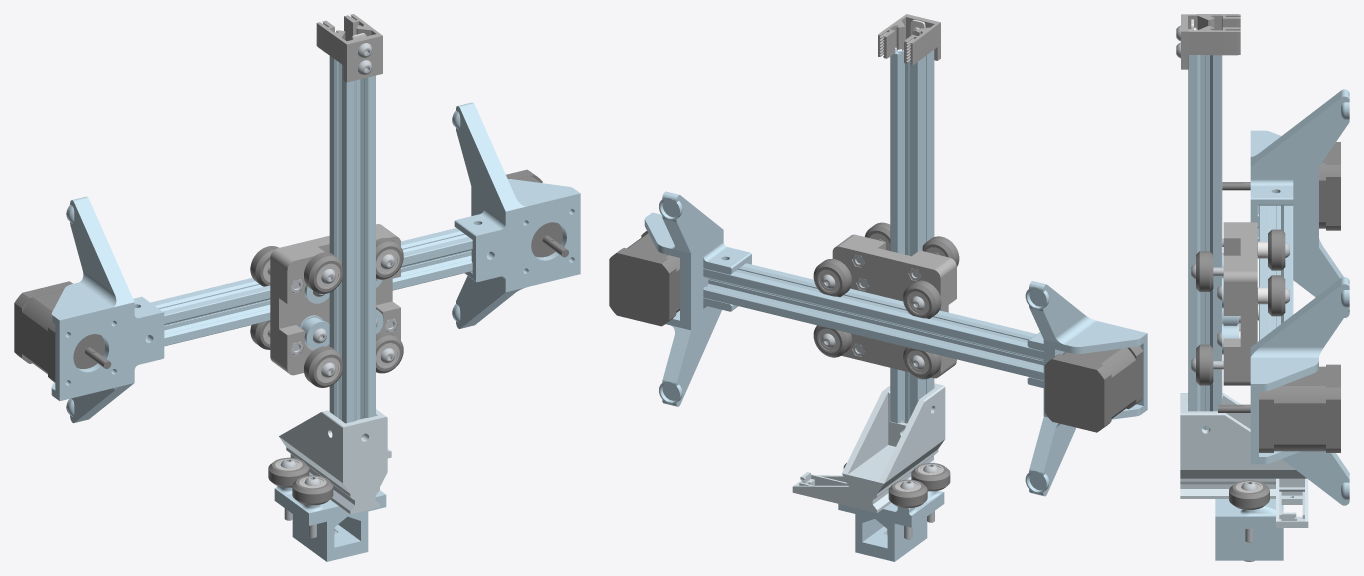
File: assembly.gltf
3 renders of one model, left to right at view 1: azimuth 30°, elevation 25°; view 2: azimuth 150°, elevation 25°; view 3: azimuth 270°, elevation 25°, orthographic. The views are drawn at different scales.
Parts seen in each view (by area): view 1: Part 3 (×2), 20x20 (×2), Part 1 (×2), Part 2, Nema 17 Stepper Motor (×2), Solid V Wheel (×4), belt clip; view 2: 20x20 (×2), Part 3 (×2), Nema 17 Stepper Motor (×2), Part 1 (×2), Part 2, Solid V Wheel (×3), belt clip; view 3: Part 3 (×2), 20x20 (×2), Part 1 (×3), Part 2, Nema 17 Stepper Motor (×2), Solid V Wheel (×5), belt clip, Socket button head screw M5x0.8 x 35.
Part boxes in pixels (box(x1,y1,x2,y2)): Part 3 (×2): box(51, 102, 580, 423); 20x20 (×2): box(146, 56, 488, 437); Part 1 (×2): box(270, 224, 400, 561); Part 2: box(279, 409, 391, 514); Nema 17 Stepper Motor (×2): box(14, 169, 568, 382); Solid V Wheel (×4): box(268, 252, 342, 505); belt clip: box(316, 14, 382, 82); 20x20 (×2): box(703, 49, 1043, 423); Part 3 (×2): box(644, 191, 1147, 496); Nema 17 Stepper Motor (×2): box(609, 231, 1143, 432); Part 1 (×2): box(832, 234, 956, 561); Part 2: box(792, 383, 945, 512); Solid V Wheel (×3): box(813, 259, 941, 508); belt clip: box(878, 14, 940, 64); Part 3 (×2): box(1250, 89, 1349, 505); 20x20 (×2): box(1188, 55, 1293, 429); Part 1 (×3): box(1215, 222, 1283, 560); Part 2: box(1180, 393, 1308, 527); Nema 17 Stepper Motor (×2): box(1218, 142, 1340, 452); Solid V Wheel (×5): box(1196, 229, 1285, 509); belt clip: box(1181, 14, 1240, 69); Socket button head screw M5x0.8 x 35: box(1241, 481, 1257, 542).
Size of the model in its own units: 0.351 by 0.3472 by 0.1015.
